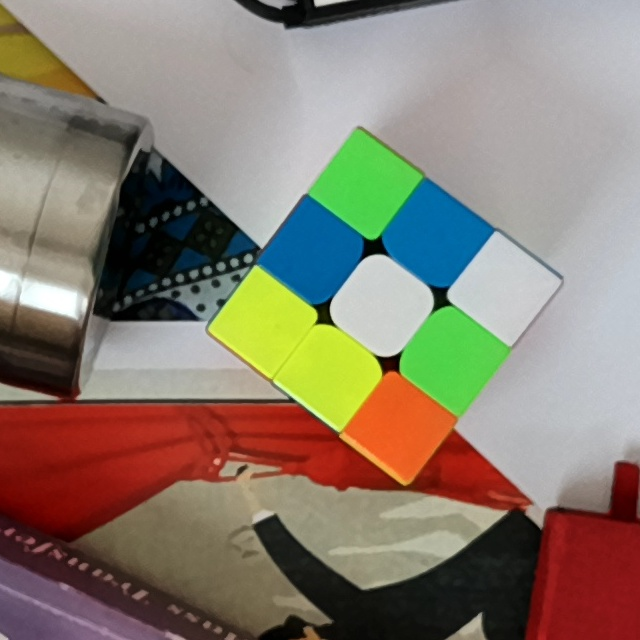tile: (299, 346, 361, 404), (406, 207, 465, 266), (349, 277, 412, 332), (424, 329, 480, 389), (284, 226, 342, 283), (234, 295, 291, 351), (368, 400, 429, 452), (335, 160, 393, 213), (478, 263, 533, 318)
